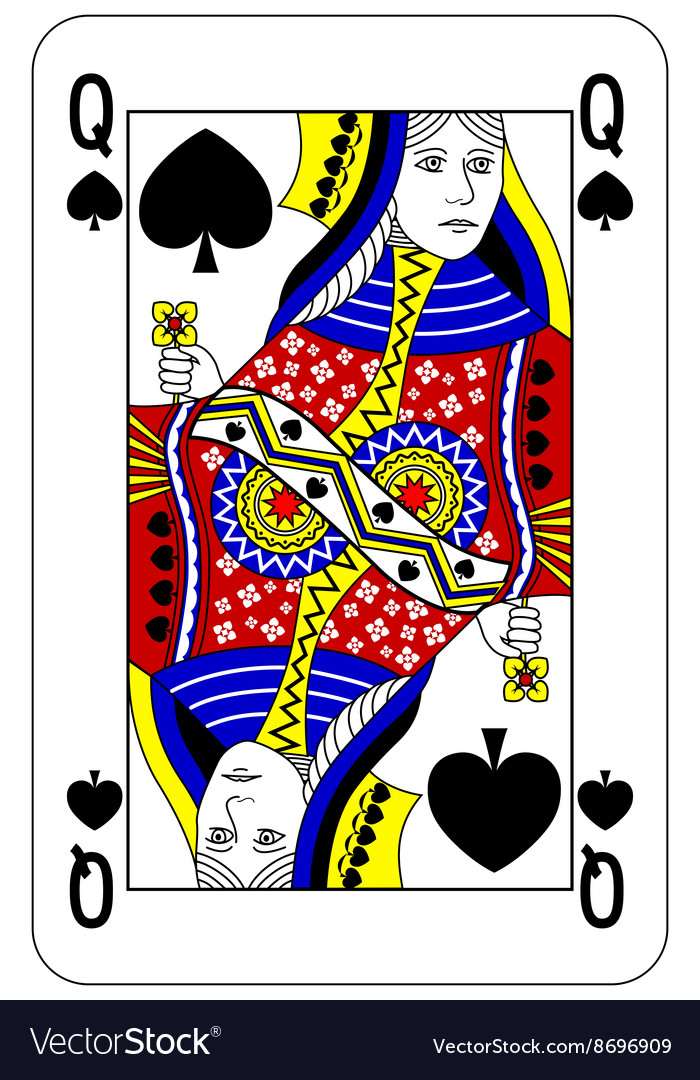queen of spades: (31, 15, 668, 981)
